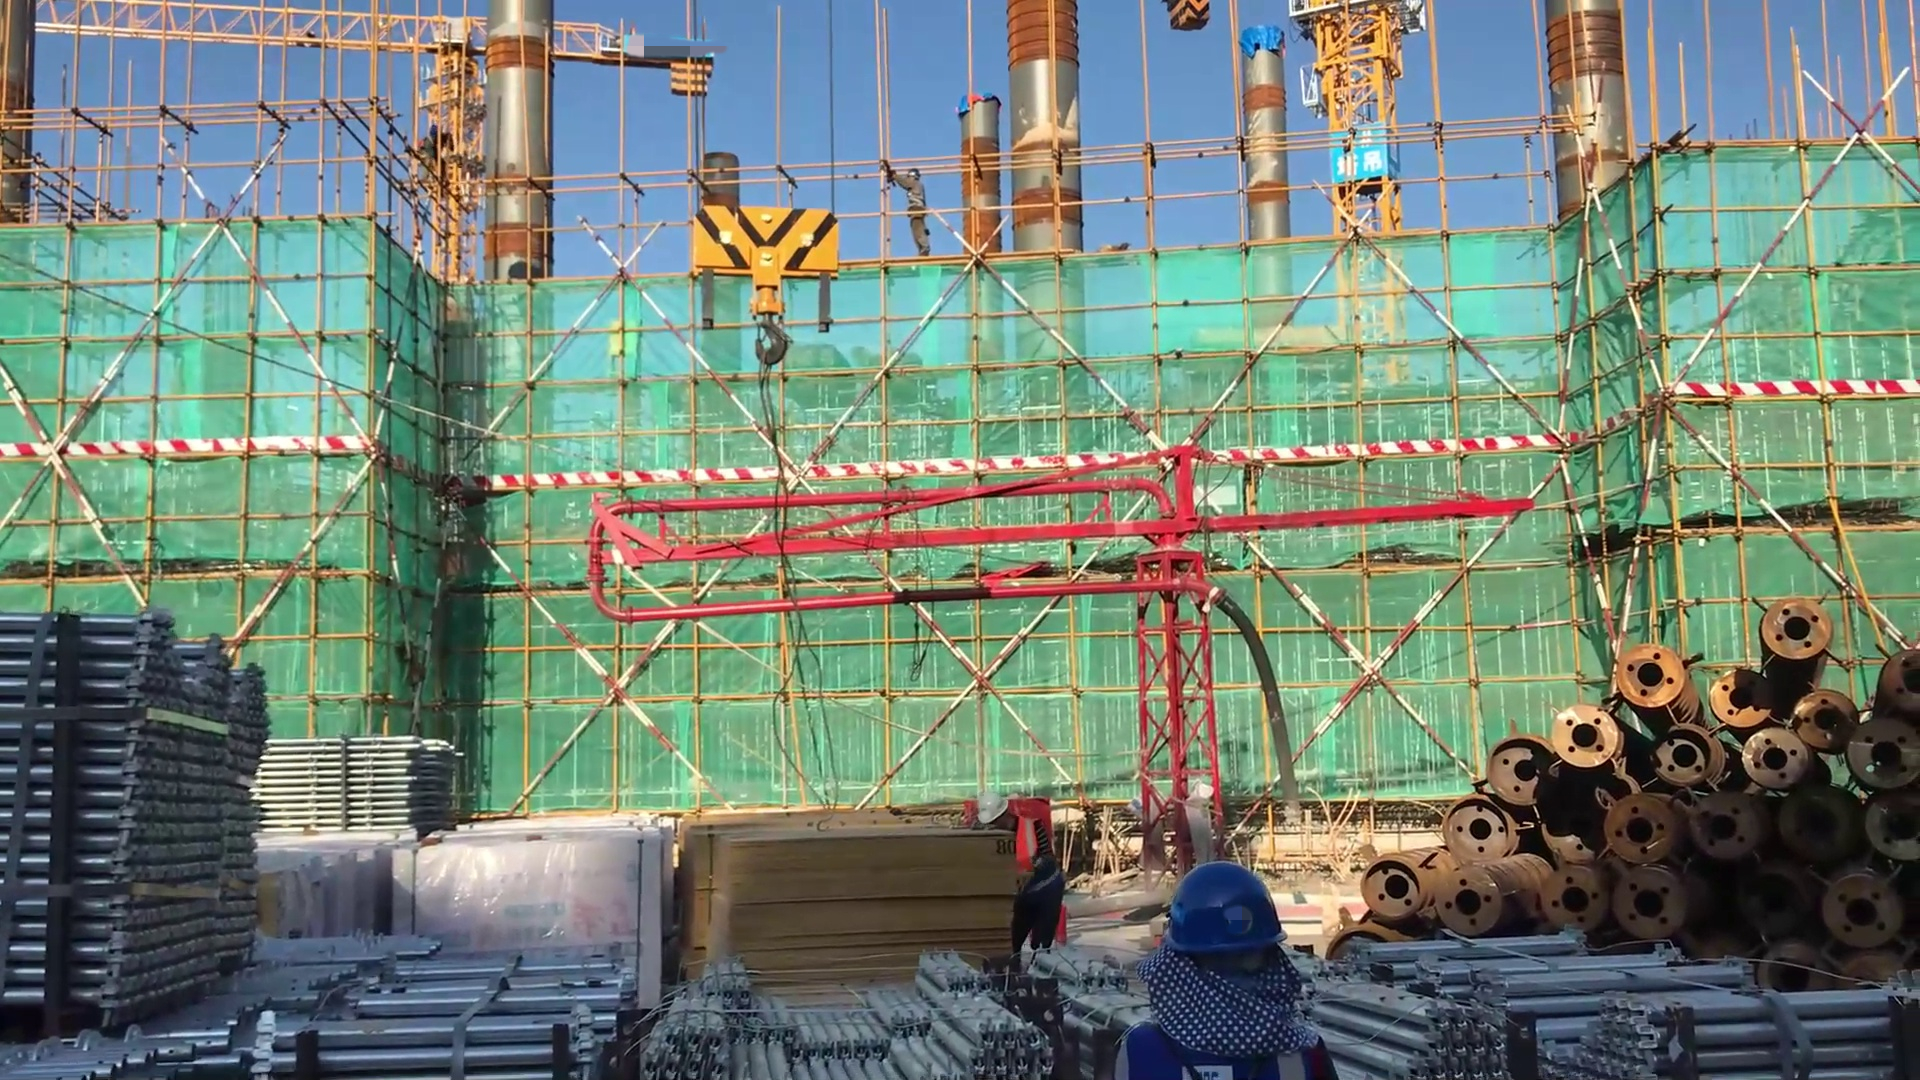board: (680, 811, 1018, 981)
helmet: (1156, 858, 1297, 952), (973, 790, 1011, 822), (906, 166, 923, 178)
hook: (670, 189, 865, 406)
person: (1111, 861, 1345, 1080), (969, 790, 1071, 971), (877, 154, 938, 269)
scaffold: (1, 621, 284, 1075), (1291, 946, 1902, 1080), (276, 928, 639, 1080), (647, 969, 1059, 1080), (263, 724, 479, 830)
slogan: (1334, 120, 1395, 182)
vest: (1113, 1010, 1317, 1079), (1006, 813, 1068, 904)
